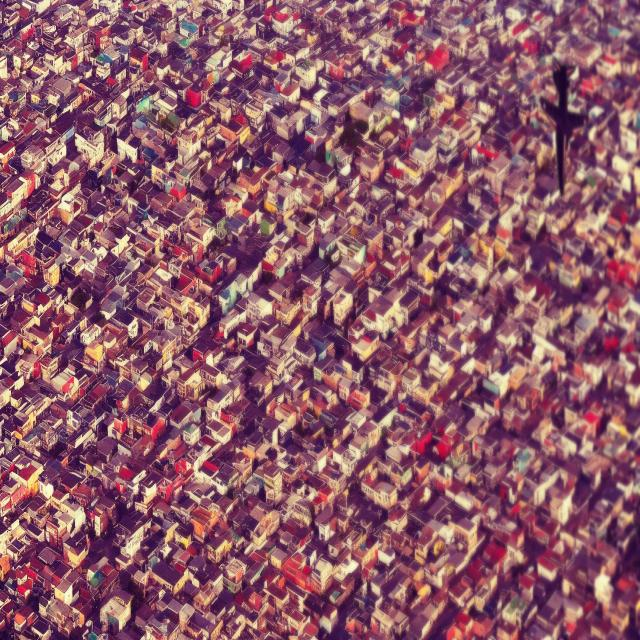airplane: (539, 56, 588, 195)
